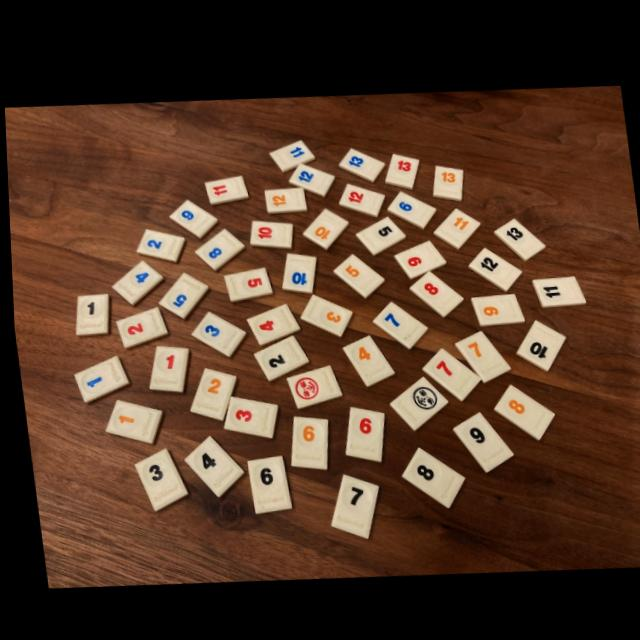black_1: (72, 293, 105, 335)
black_10: (513, 314, 562, 366)
black_11: (529, 270, 584, 302)
black_12: (466, 242, 519, 286)
black_13: (492, 213, 543, 255)
black_2: (250, 331, 306, 378)
black_3: (130, 447, 183, 509)
black_4: (182, 433, 239, 494)
black_5: (354, 212, 404, 251)
black_6: (243, 453, 287, 511)
black_7: (326, 471, 374, 534)
black_8: (397, 442, 461, 503)
black_9: (449, 407, 509, 467)
blue_1: (70, 355, 126, 401)
blue_10: (279, 250, 314, 290)
blue_11: (268, 136, 313, 169)
blue_12: (288, 160, 333, 193)
blue_13: (338, 144, 384, 178)
blue_2: (134, 227, 182, 260)
blue_3: (189, 310, 242, 354)
blue_4: (109, 259, 161, 303)
blue_5: (156, 271, 206, 316)
blue_6: (385, 187, 434, 225)
blue_7: (370, 296, 425, 345)
blue_8: (193, 226, 243, 268)
blue_9: (167, 198, 215, 236)
joker: (387, 372, 444, 426), (283, 362, 338, 405)
orange_1: (102, 399, 158, 442)
orange_10: (300, 205, 346, 247)
orange_11: (431, 203, 478, 244)
orange_12: (263, 184, 306, 210)
orange_13: (431, 161, 462, 196)
orange_2: (186, 366, 232, 418)
orange_3: (298, 290, 350, 333)
orange_4: (339, 331, 392, 383)
orange_5: (331, 250, 382, 294)
orange_6: (287, 413, 324, 465)
orange_7: (452, 325, 507, 378)
orange_8: (490, 379, 551, 434)
orange_9: (468, 288, 521, 321)
red_1: (145, 344, 186, 390)
red_10: (248, 217, 290, 246)
red_11: (203, 173, 247, 203)
red_12: (337, 179, 382, 213)
red_13: (384, 149, 418, 185)
red_2: (113, 305, 165, 347)
red_3: (220, 393, 273, 435)
red_4: (245, 300, 297, 343)
red_5: (222, 265, 270, 300)
red_6: (342, 403, 380, 458)
red_7: (419, 343, 477, 396)
red_8: (406, 267, 460, 312)
red_9: (393, 236, 444, 274)
